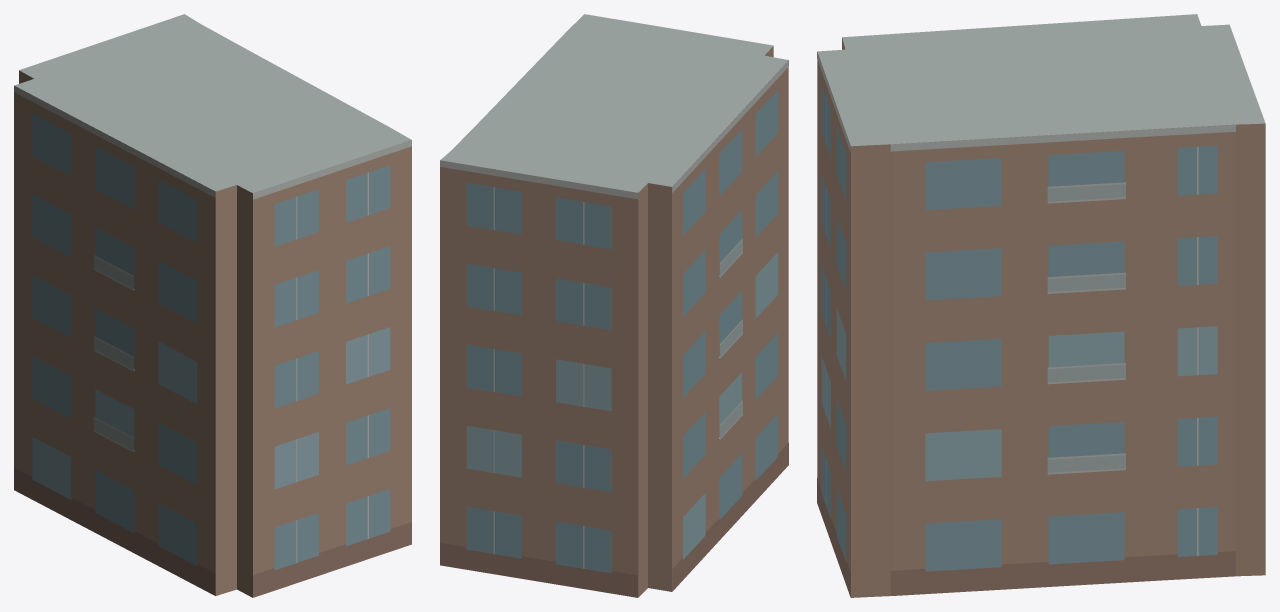
File: survey-upis-32914280.glb
The picture shows the model from 3 angles, left to right: view 1: azimuth 30°, elevation 25°; view 2: azimuth 150°, elevation 25°; view 3: azimuth 270°, elevation 25°; orthographic projection. The views are drawn at different scales.
Parts seen in each view (by area): view 1: survey-upis-32914280.tmp; view 2: survey-upis-32914280.tmp; view 3: survey-upis-32914280.tmp.
Part boxes in pixels (left/top/right/bottom): survey-upis-32914280.tmp: left=14, top=14, right=411, bottom=597; survey-upis-32914280.tmp: left=440, top=14, right=788, bottom=597; survey-upis-32914280.tmp: left=817, top=14, right=1265, bottom=597.
Size of the model in its own units: 9.58 by 15.25 by 13.73.
